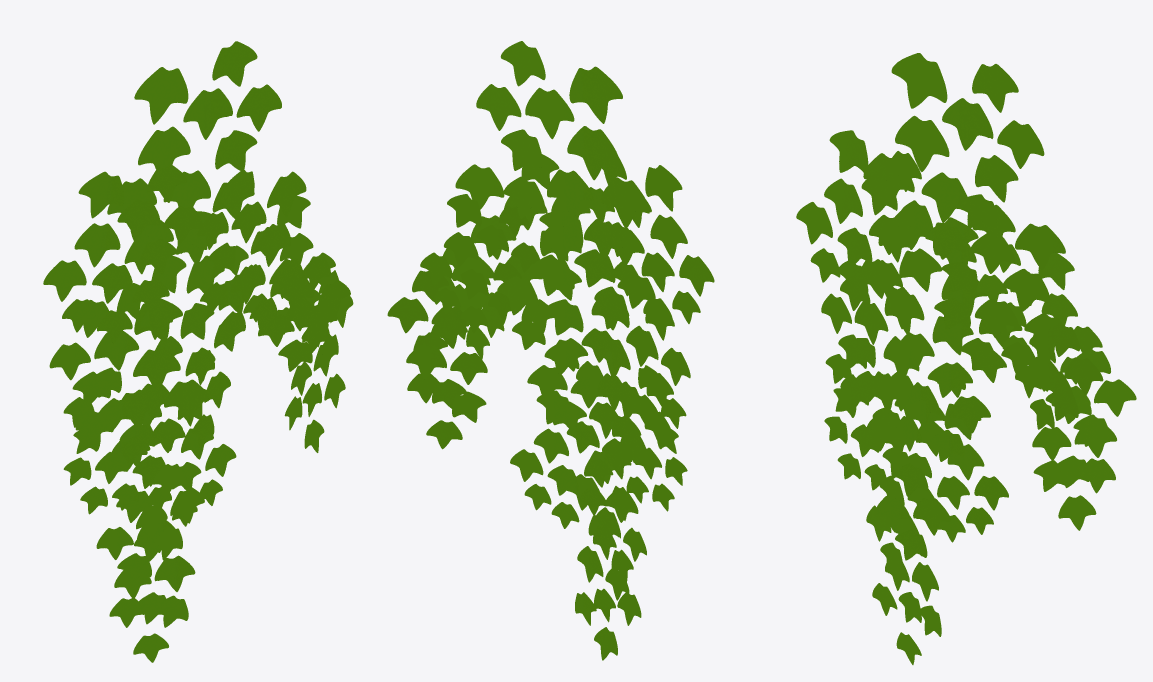
File: prop_vine1.glb
3 views of the same model, side by side, from view 1: azimuth 30°, elevation 25°; view 2: azimuth 150°, elevation 25°; view 3: azimuth 330°, elevation 25° (orthographic). The views are drawn at different scales.
Parts seen in each view (by area): view 1: Prop_Vine1; view 2: Prop_Vine1; view 3: Prop_Vine1.
Part boxes in pixels (x1=…): Prop_Vine1: x1=43, y1=41, x2=353, y2=662; Prop_Vine1: x1=387, y1=41, x2=714, y2=660; Prop_Vine1: x1=796, y1=53, x2=1136, y2=664.
Bounding box in the file's own units: 1.54 × 2.6 × 0.219.
1 material, 1 textured.
